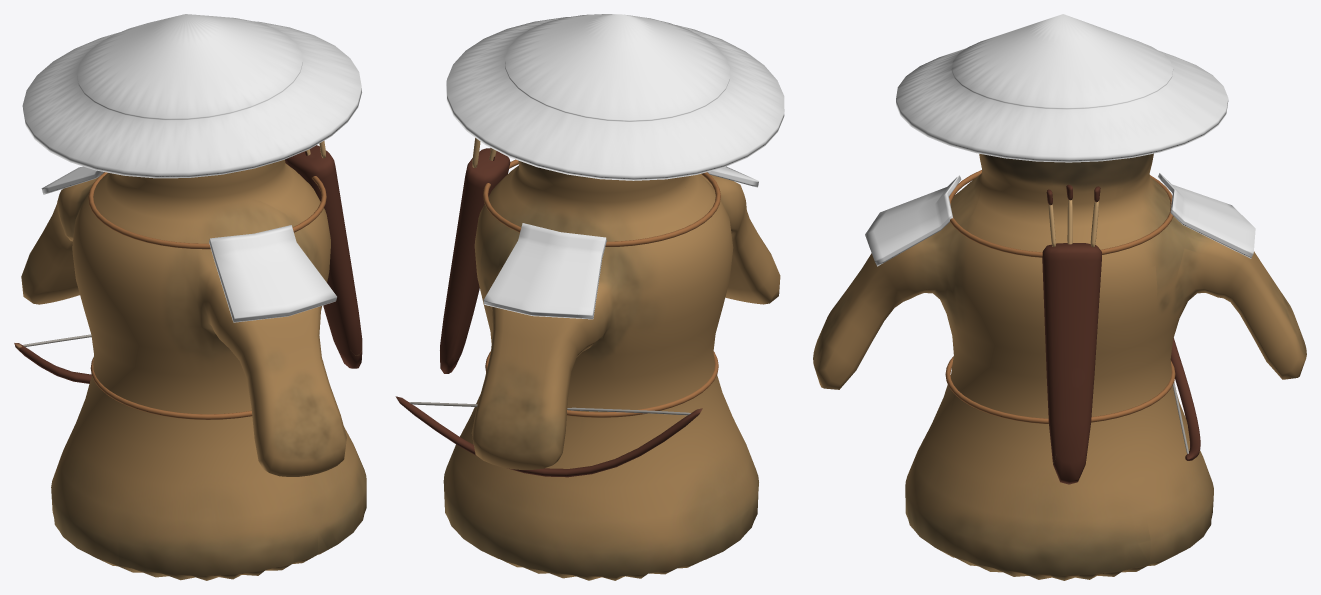
File: RangerMenu.fbx
3 views of the same model, side by side, from view 1: azimuth 30°, elevation 25°; view 2: azimuth 150°, elevation 25°; view 3: azimuth 270°, elevation 25° (orthographic). The views are drawn at different scales.
Visible parts, largest first — view 1: Unit.001, Ranger, Drow, BeltRang; view 2: Unit.001, Ranger, Drow, BeltRang; view 3: Unit.001, Ranger, Drow, BeltRang.
Boxes of the visible parts, x1,y1,x2,y2 form: Unit.001: (21, 159, 366, 580); Ranger: (22, 14, 362, 322); Drow: (14, 141, 362, 383); BeltRang: (88, 161, 326, 419); Unit.001: (443, 160, 780, 580); Ranger: (446, 14, 784, 319); Drow: (395, 138, 702, 477); BeltRang: (483, 159, 720, 417); Unit.001: (813, 153, 1306, 580); Ranger: (865, 14, 1255, 266); Drow: (1042, 184, 1200, 484); BeltRang: (945, 170, 1175, 423).
Bounding box in the file's own units: 278 × 443 × 385.
